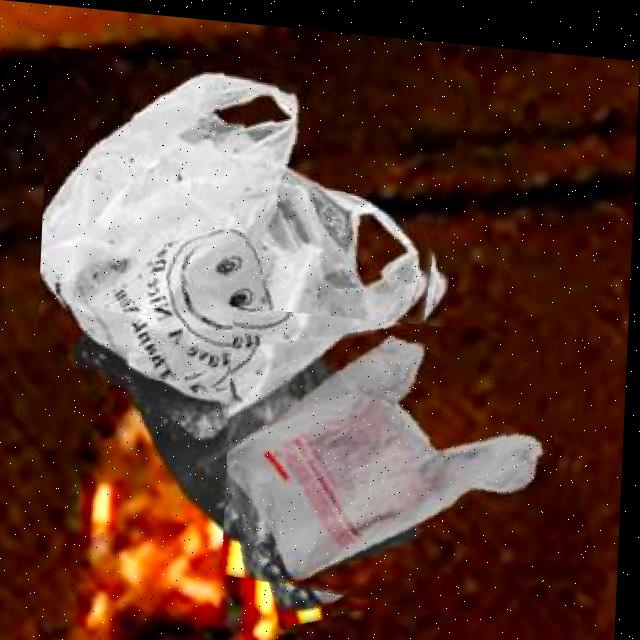plasticcover: (39, 46, 458, 408), (226, 302, 592, 623)
